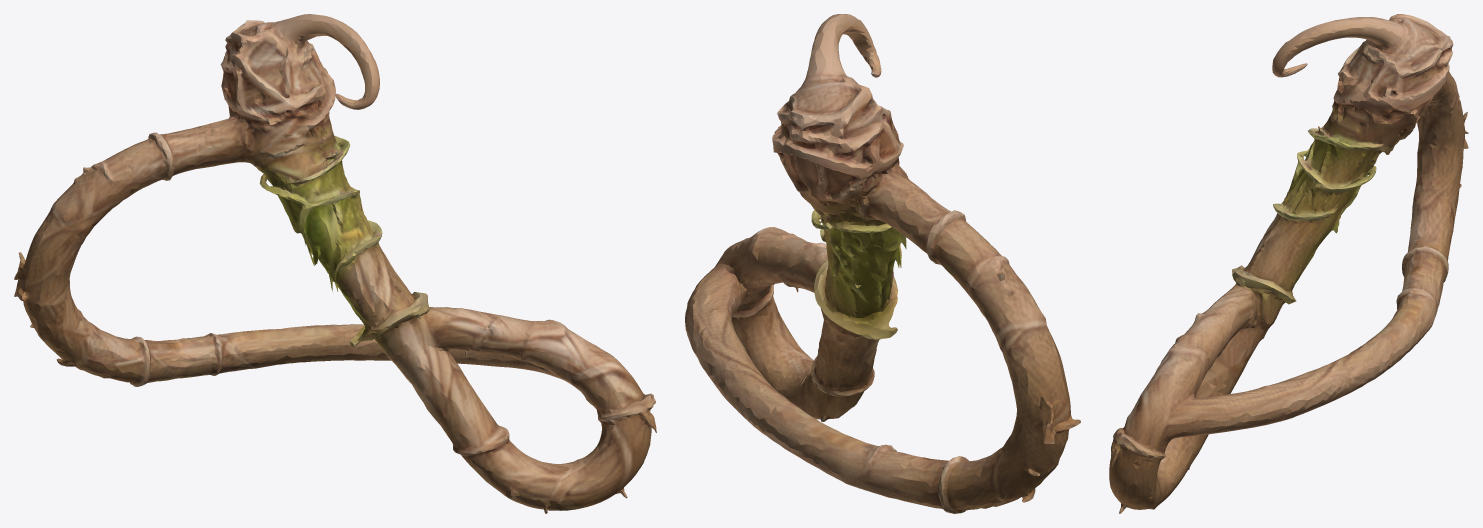
The picture shows the model from 3 angles, left to right: view 1: azimuth 30°, elevation 25°; view 2: azimuth 150°, elevation 25°; view 3: azimuth 270°, elevation 25°; orthographic projection. The views are drawn at different scales.
Parts seen in each view (by area): view 1: 057; view 2: 057; view 3: 057.
Part boxes in pixels (x1,y1,x2,y2): 057: [14, 14, 656, 513]; 057: [685, 14, 1080, 513]; 057: [1109, 14, 1468, 513].
Size of the model in its own units: 1.9 by 1.69 by 1.3.
1 material, 1 textured.
